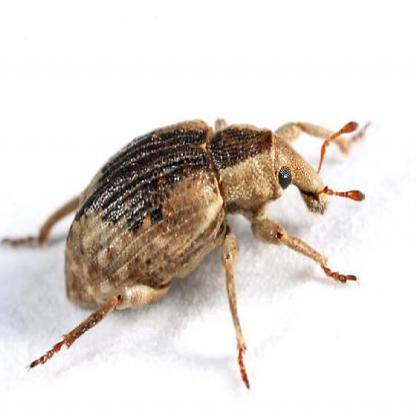rice-bug: (24, 117, 363, 370)
